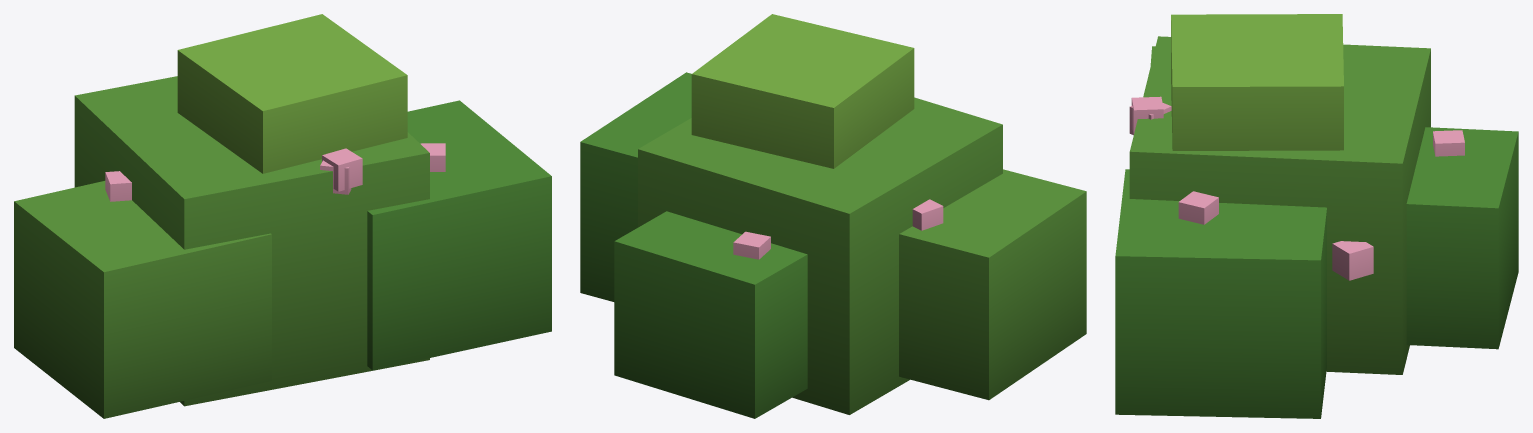
File: B10_bush_flowering.glb
3 renders of one model, left to right at view 1: azimuth 30°, elevation 25°; view 2: azimuth 150°, elevation 25°; view 3: azimuth 270°, elevation 25°, orthographic. The views are drawn at different scales.
Visible parts, largest first — view 1: B10_bush_flowering; view 2: B10_bush_flowering; view 3: B10_bush_flowering.
Part boxes in pixels (bbox=[...]): B10_bush_flowering: bbox=[14, 14, 551, 418]; B10_bush_flowering: bbox=[580, 14, 1086, 418]; B10_bush_flowering: bbox=[1115, 14, 1518, 418].
Size of the model in its own units: 2.26 by 1.33 by 1.76.
